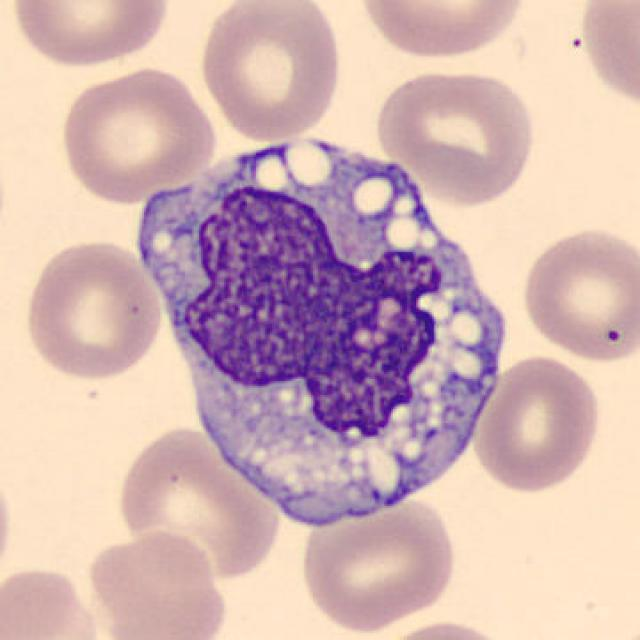Monocyte: (139, 109, 517, 542)
RBC: (112, 422, 283, 584), (372, 64, 540, 206), (53, 62, 219, 205), (297, 494, 459, 634), (196, 0, 346, 145), (22, 236, 164, 383), (471, 351, 605, 495), (518, 220, 638, 367), (84, 527, 230, 640), (7, 0, 173, 71), (352, 0, 530, 62), (0, 560, 110, 640), (568, 0, 638, 116), (372, 617, 518, 640), (0, 457, 16, 592)
